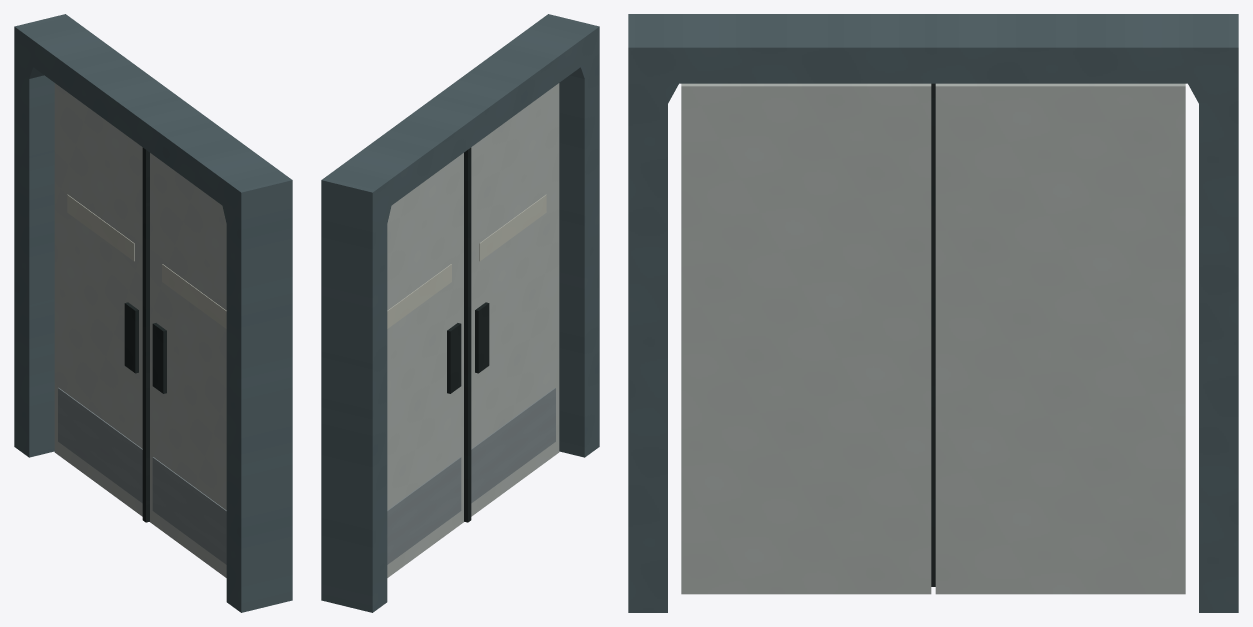
Rendered from G7C2_Fore_MaintenanceDoor_1_Preview_r002.glb.
The picture shows the model from 3 angles, left to right: view 1: azimuth 30°, elevation 25°; view 2: azimuth 150°, elevation 25°; view 3: azimuth 270°, elevation 25°; orthographic projection. The views are drawn at different scales.
Parts seen in each view (by area): view 1: LEAF_LEFT.001, STF_JambRight.001, LEAF_RIGHT.001, STF_Header.001, STF_JambLeft.001, KICK_LEFT.001, KICK_RIGHT.001, MEETING_SEAL_LEFT.001, IDENTIFIER_LEFT.001, IDENTIFIER_RIGHT.001, PUSH_LEFT.001, PUSH_RIGHT.001; view 2: LEAF_RIGHT.001, STF_JambLeft.001, LEAF_LEFT.001, STF_Header.001, STF_JambRight.001, KICK_RIGHT.001, KICK_LEFT.001, MEETING_SEAL_LEFT.001, IDENTIFIER_RIGHT.001, IDENTIFIER_LEFT.001, PUSH_RIGHT.001, PUSH_LEFT.001; view 3: LEAF_LEFT.001, LEAF_RIGHT.001, STF_Header.001, STF_JambRight.001, STF_JambLeft.001, MEETING_SEAL_LEFT.001.
Part boxes in pixels (<box>): LEAF_LEFT.001: <box>54,83,142,516</box>; STF_JambRight.001: <box>223,200,292,612</box>; LEAF_RIGHT.001: <box>149,153,226,577</box>; STF_Header.001: <box>14,14,292,228</box>; STF_JambLeft.001: <box>14,44,54,457</box>; KICK_LEFT.001: <box>58,387,142,503</box>; KICK_RIGHT.001: <box>152,457,226,564</box>; MEETING_SEAL_LEFT.001: <box>142,147,149,522</box>; IDENTIFIER_LEFT.001: <box>67,194,134,261</box>; IDENTIFIER_RIGHT.001: <box>162,264,226,328</box>; PUSH_LEFT.001: <box>124,302,138,373</box>; PUSH_RIGHT.001: <box>152,323,166,393</box>; LEAF_RIGHT.001: <box>471,83,559,516</box>; STF_JambLeft.001: <box>321,200,390,612</box>; LEAF_LEFT.001: <box>387,153,464,577</box>; STF_Header.001: <box>321,14,599,228</box>; STF_JambRight.001: <box>559,62,599,457</box>; KICK_RIGHT.001: <box>471,387,555,503</box>; KICK_LEFT.001: <box>387,457,461,564</box>; MEETING_SEAL_LEFT.001: <box>464,147,471,522</box>; IDENTIFIER_RIGHT.001: <box>479,194,546,261</box>; IDENTIFIER_LEFT.001: <box>387,264,451,328</box>; PUSH_RIGHT.001: <box>475,302,489,373</box>; PUSH_LEFT.001: <box>447,323,461,393</box>; LEAF_LEFT.001: <box>935,83,1185,594</box>; LEAF_RIGHT.001: <box>681,83,931,594</box>; STF_Header.001: <box>628,14,1238,103</box>; STF_JambRight.001: <box>628,64,677,612</box>; STF_JambLeft.001: <box>1188,64,1238,612</box>; MEETING_SEAL_LEFT.001: <box>931,83,935,586</box>.
Bounding box in the file's own units: 0.36 × 2.82 × 2.76.
Materials: 5 (5 with a texture image).
